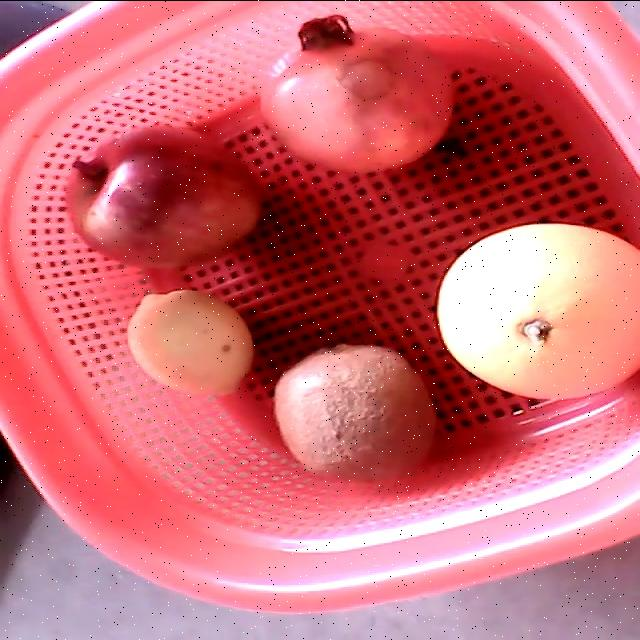apple: (66, 124, 261, 266)
kiwi: (273, 343, 438, 483)
lemon: (125, 288, 252, 394)
orange: (434, 222, 639, 398)
pomegranate: (260, 14, 456, 174)
